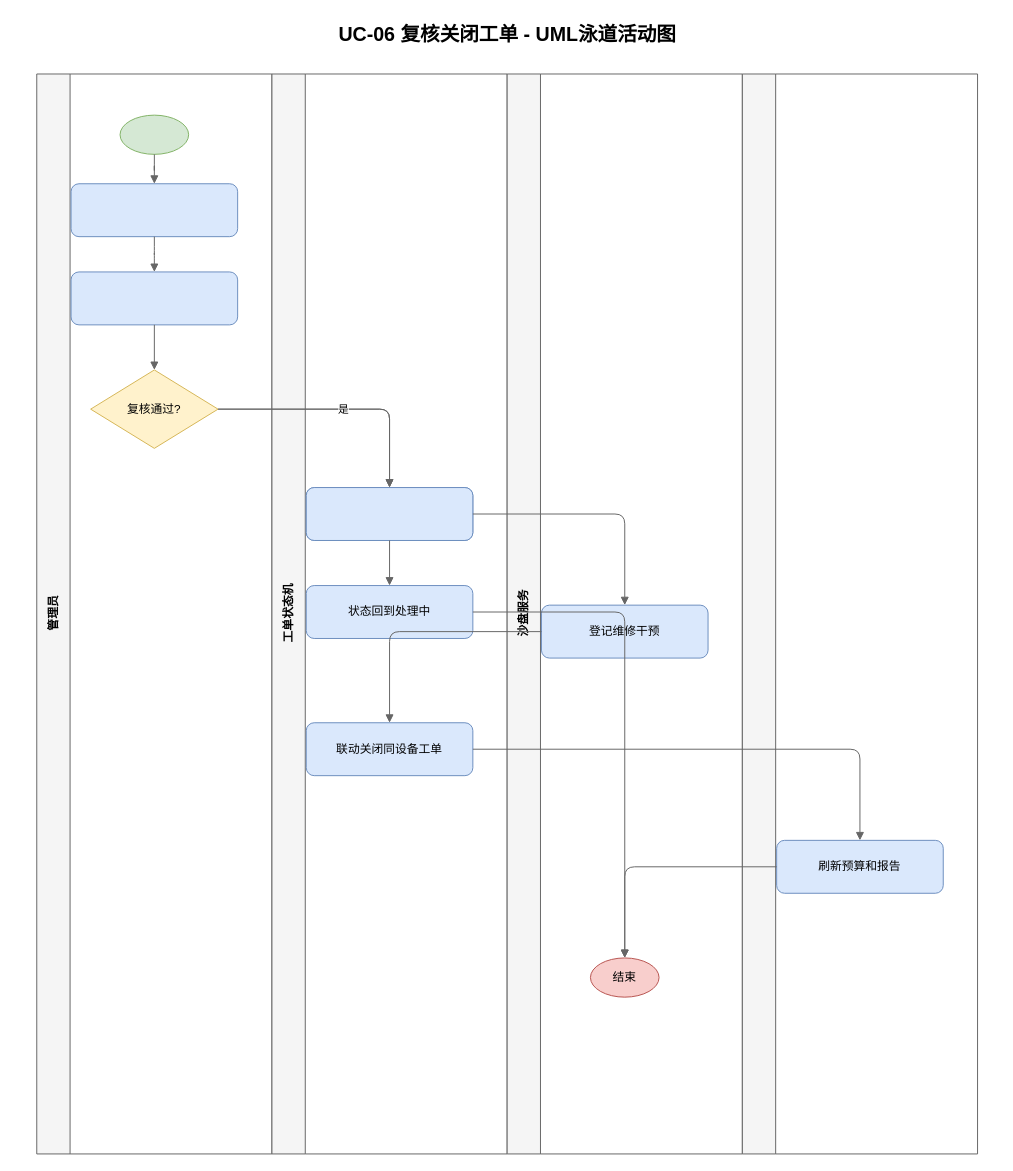
Image size: 1013x1171. Some labels were removed from this diagram. Each missing label, with the box of its shape:
关闭工单并写时间线: (305, 487, 473, 540)
决策服务: (741, 73, 978, 1154)
开始: (119, 114, 189, 154)
打开待复核工单: (70, 183, 238, 237)
核对现场材料: (70, 271, 238, 325)
